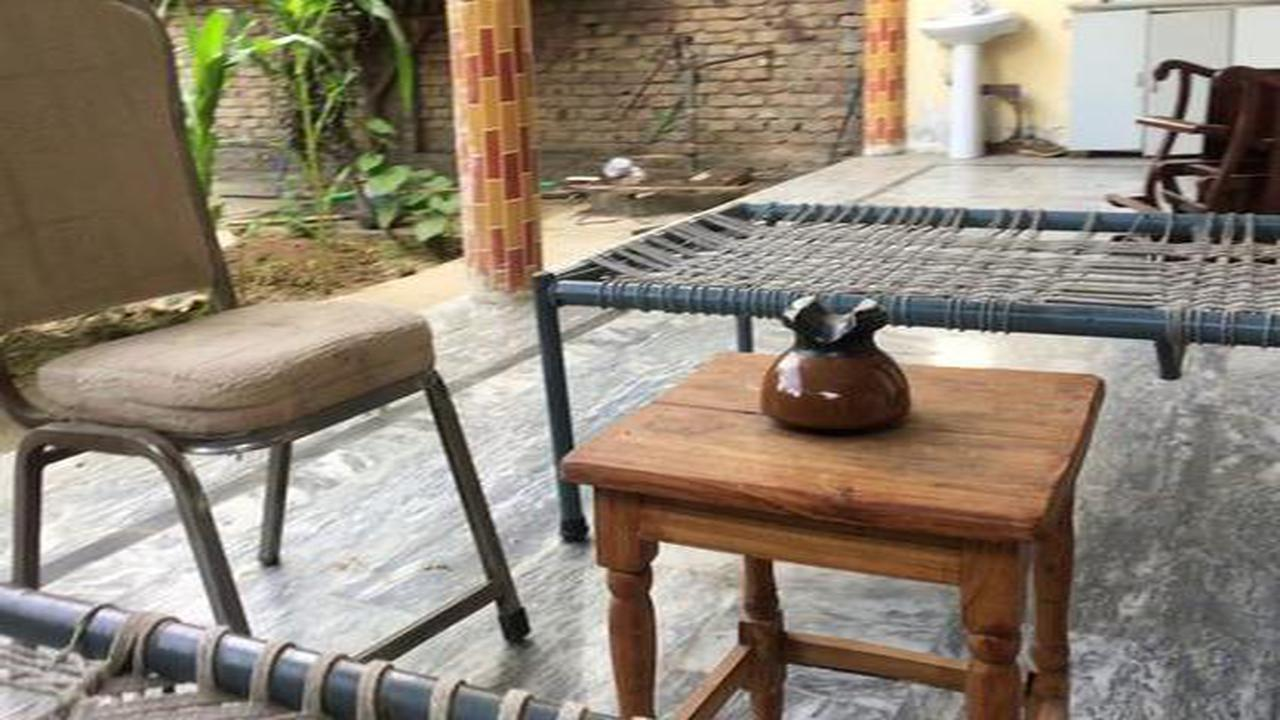insulator_pin: (739, 276, 942, 449)
